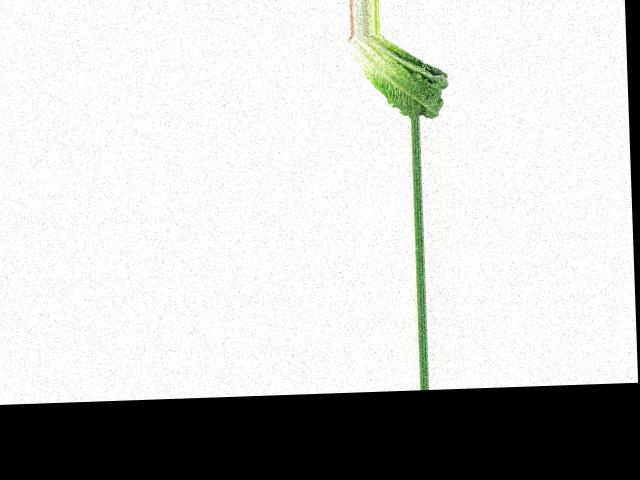lettuce: (346, 31, 451, 120)
